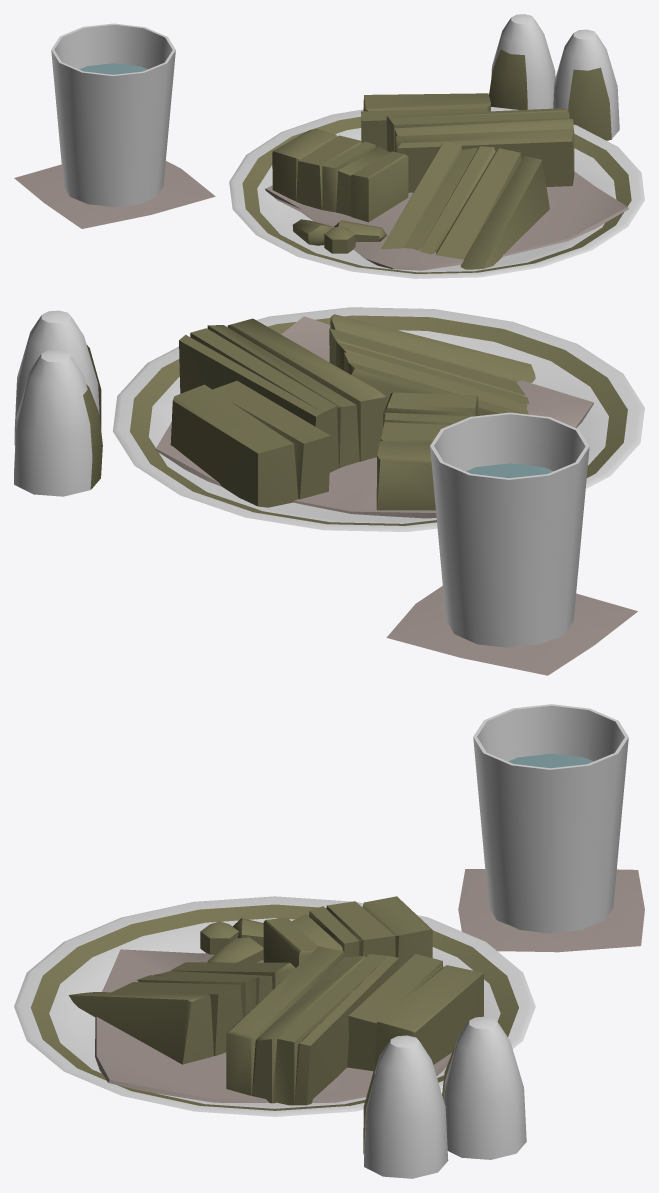
Rendered from ZC5ZZH03.FBX.
3 renders of one model, top to bottom at view 1: azimuth 30°, elevation 25°; view 2: azimuth 150°, elevation 25°; view 3: azimuth 270°, elevation 25°, orthographic. The views are drawn at different scales.
Parts seen in each view (by area): view 1: ZC5ZZH03; view 2: ZC5ZZH03; view 3: ZC5ZZH03.
Boxes of the visible parts, left/top/right/bottom form: ZC5ZZH03: left=14, top=14, right=644, bottom=278; ZC5ZZH03: left=14, top=307, right=644, bottom=675; ZC5ZZH03: left=14, top=704, right=644, bottom=1178.
Size of the model in its own units: 36.78 by 31.56 by 9.51.
